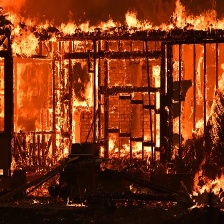fire: (1, 5, 224, 211)
